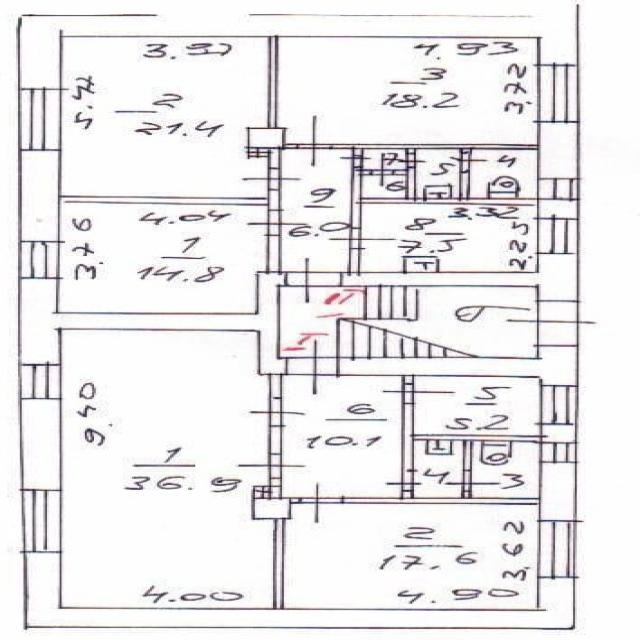Bathrooms: (364, 205, 537, 271), (474, 442, 538, 497), (473, 150, 535, 198), (416, 441, 460, 497), (418, 150, 459, 197)
Corridors: (283, 375, 401, 496), (283, 149, 350, 271), (364, 177, 405, 197), (365, 150, 405, 168)
Doors: (505, 301, 601, 346), (286, 338, 338, 395), (287, 257, 342, 304), (296, 114, 332, 168), (243, 209, 312, 236), (300, 482, 344, 524), (379, 383, 459, 405), (247, 397, 305, 427), (237, 454, 305, 478), (327, 227, 398, 249), (240, 167, 304, 190), (444, 470, 502, 491), (383, 469, 425, 492), (370, 153, 395, 187), (447, 153, 488, 173), (396, 152, 428, 167), (268, 427, 283, 454), (339, 156, 372, 168)
LBwalls: (21, 552, 576, 630), (17, 13, 579, 88), (59, 273, 288, 375), (340, 254, 580, 301), (338, 346, 579, 386), (19, 400, 63, 489), (17, 279, 63, 364), (18, 152, 61, 240), (538, 124, 581, 178), (540, 462, 579, 520), (252, 497, 292, 520), (536, 199, 579, 219), (248, 127, 287, 148), (540, 425, 577, 442)
Offices: (63, 330, 272, 606), (62, 37, 268, 197), (280, 37, 537, 143), (287, 505, 537, 608), (61, 203, 267, 313), (416, 377, 540, 434)
Stairs: (281, 287, 536, 357)
Walls: (350, 167, 537, 227), (401, 404, 540, 470), (61, 190, 282, 210), (332, 143, 538, 157), (344, 491, 539, 505), (272, 518, 284, 607), (268, 37, 277, 127), (247, 148, 282, 168), (252, 478, 283, 498), (267, 235, 282, 273), (269, 375, 283, 398), (348, 250, 360, 271), (402, 376, 415, 383), (283, 144, 296, 149)
Windows: (17, 87, 62, 152), (21, 489, 63, 553), (536, 64, 580, 124), (537, 520, 579, 578), (18, 240, 62, 280), (539, 384, 579, 425), (536, 217, 580, 254), (18, 363, 62, 400), (536, 177, 580, 200), (540, 442, 577, 463)
